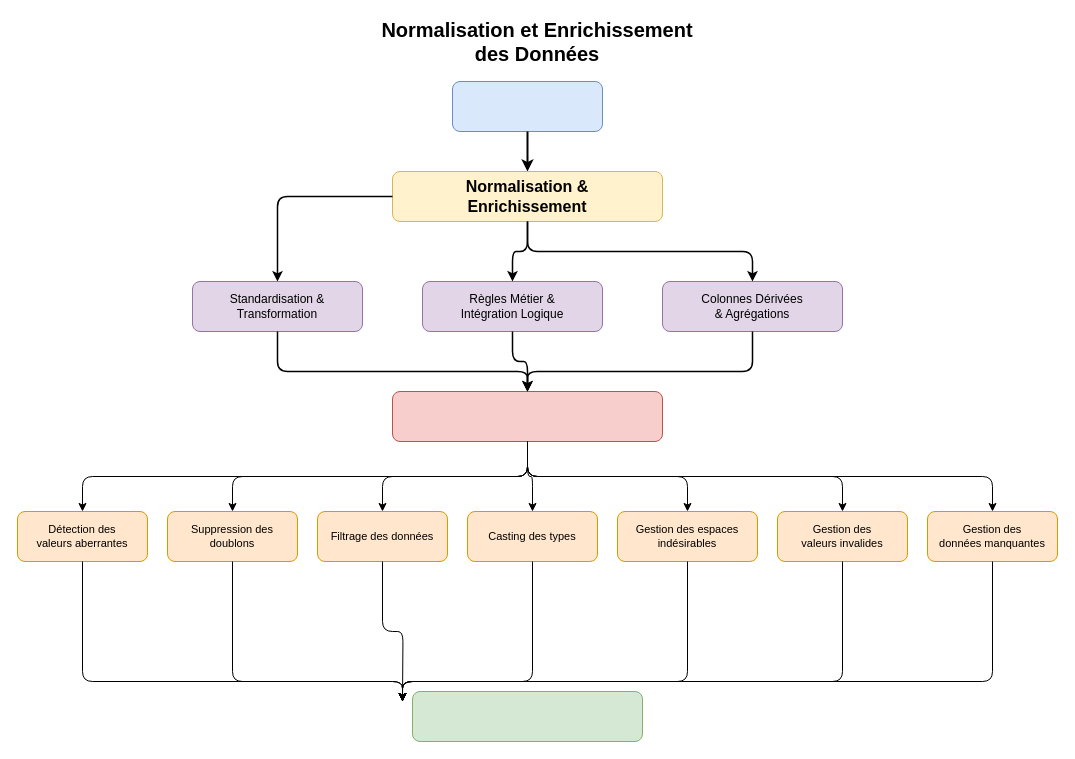
This 1075x759 diagram has some shape labels left out. Here are the shapes that lost their labels. From the top down, the centre of each, then its label:
(527,106): Données Brutes
(527,416): Nettoyage des Données
(527,716): Données Enrichies et Prêtes à l'Emploi
